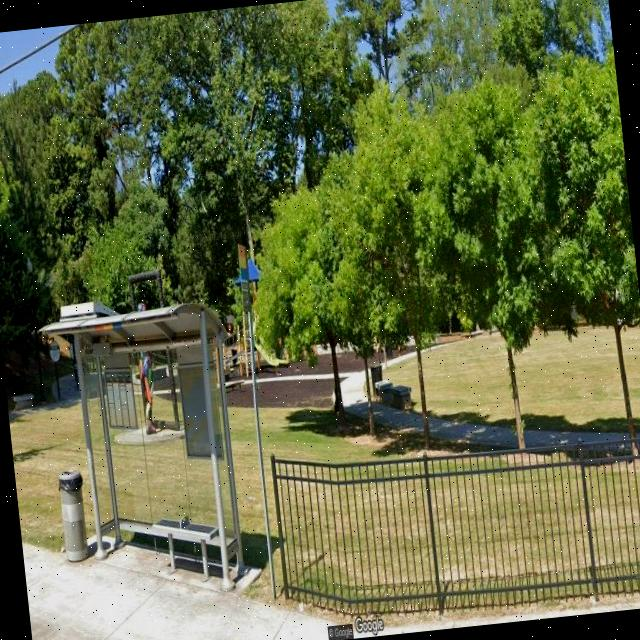seating: (150, 508, 223, 584)
shelter: (39, 292, 252, 610)
trash_can: (56, 470, 88, 562), (369, 364, 386, 401)
